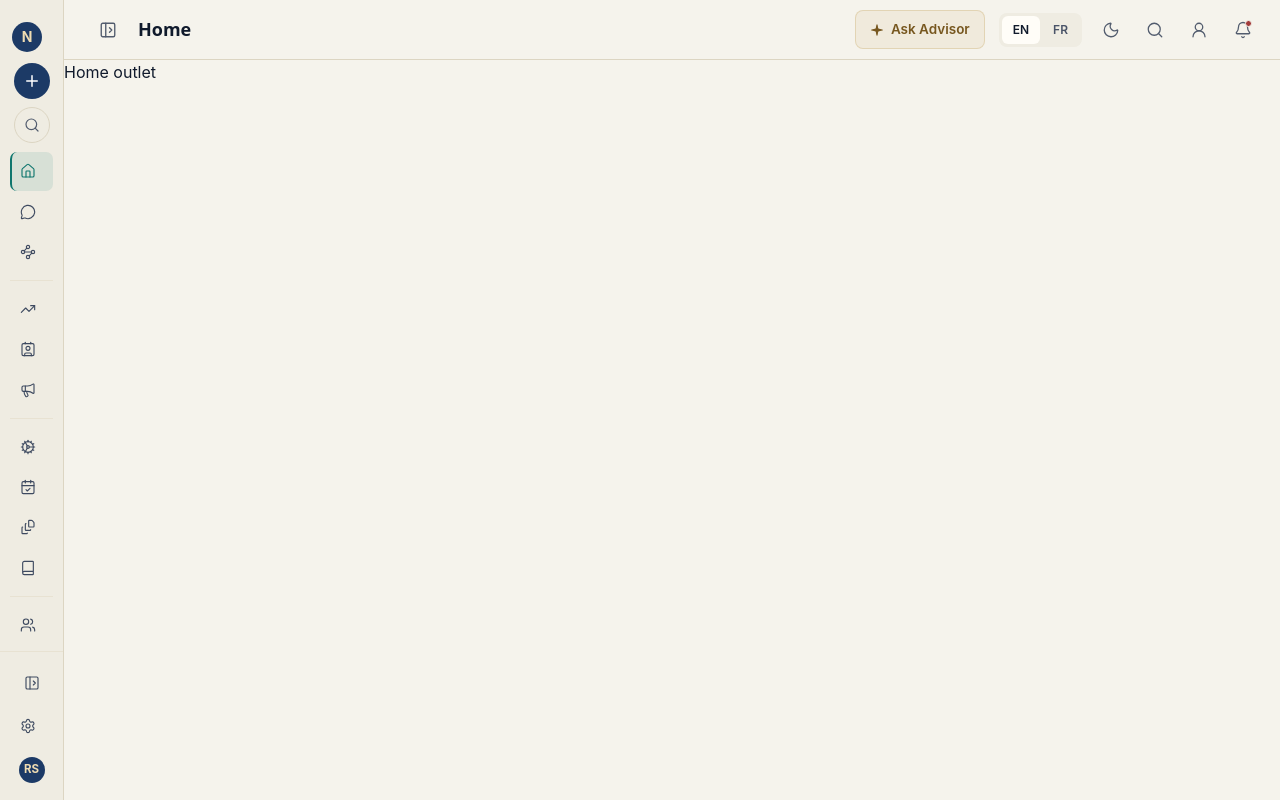
AppShell › allows sidebar expand on tablet with persisted preference
Click the 2nd button named "Expand": (32, 683) x1=10 y1=661 x2=53 y2=705
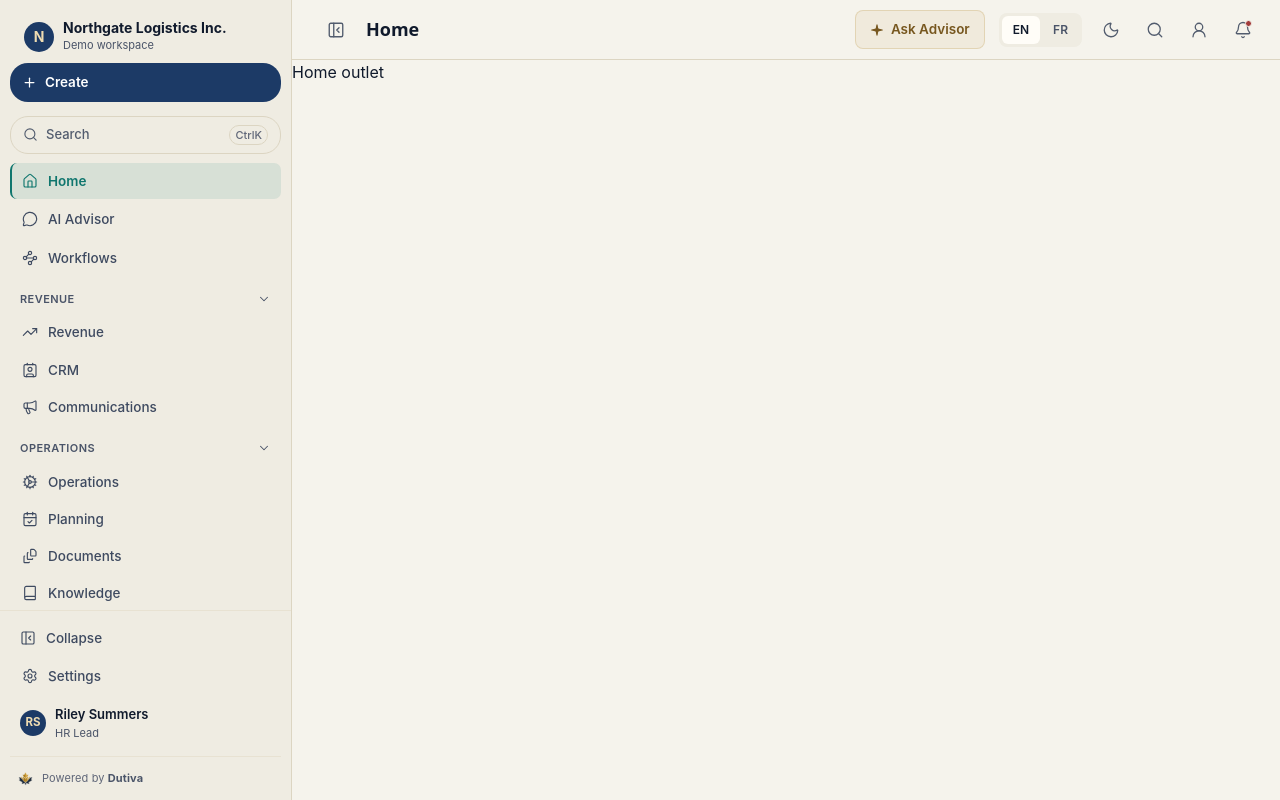
Expected: the button "Create" is shown, x1=10 y1=63 x2=281 y2=102
